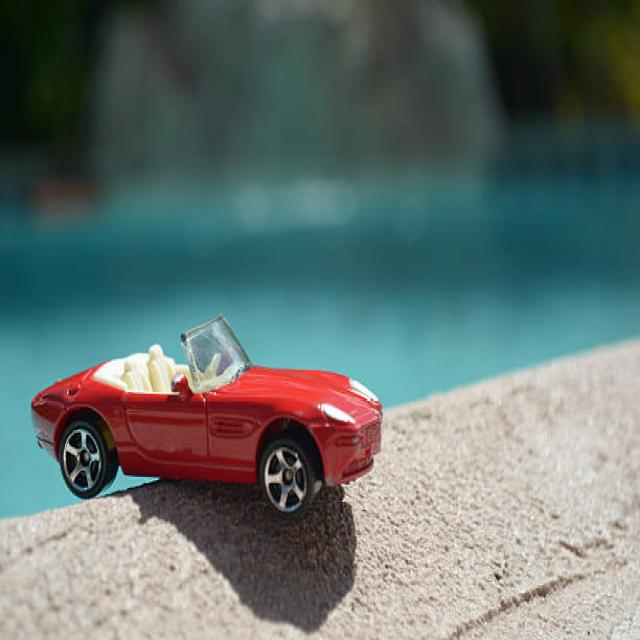Car: (30, 312, 383, 519)
